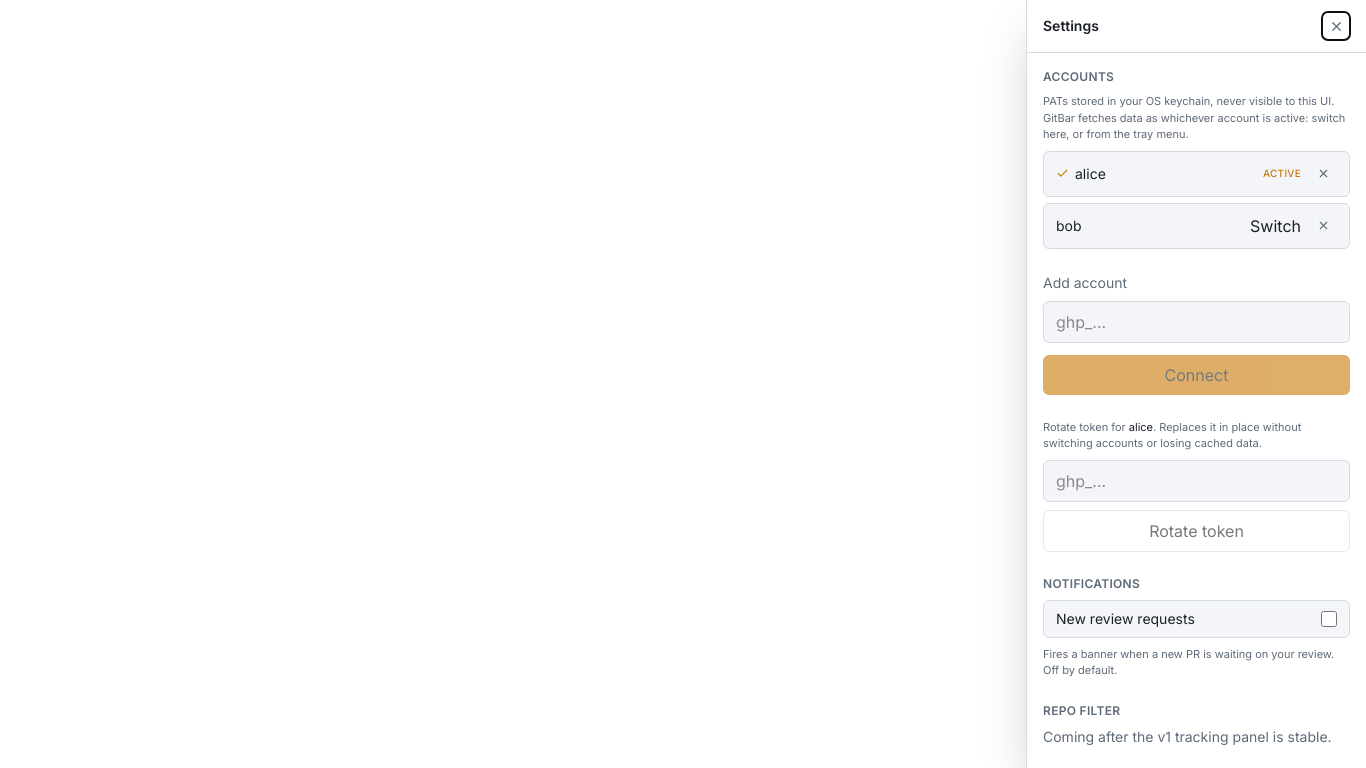
Test case: Settings › renders a failed switch beside the account list, not under the Add-account form, and clears it on retry
Step 1. Click the button "Switch" → x=1276, y=226, box [1250,214,1301,238]
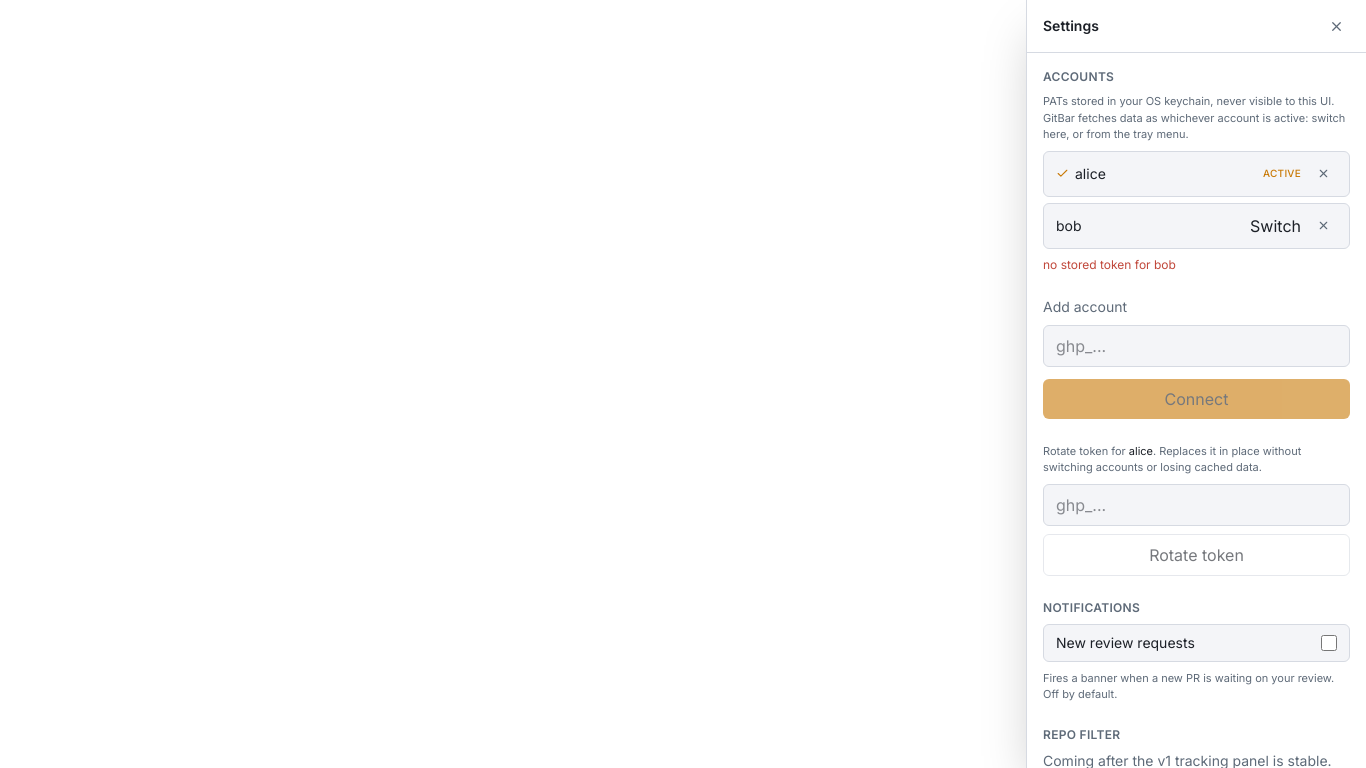
// A later success clears it rather than leaving stale red text behind.
Step 2. Click the button "Switch" → x=1276, y=226, box [1250,214,1301,238]
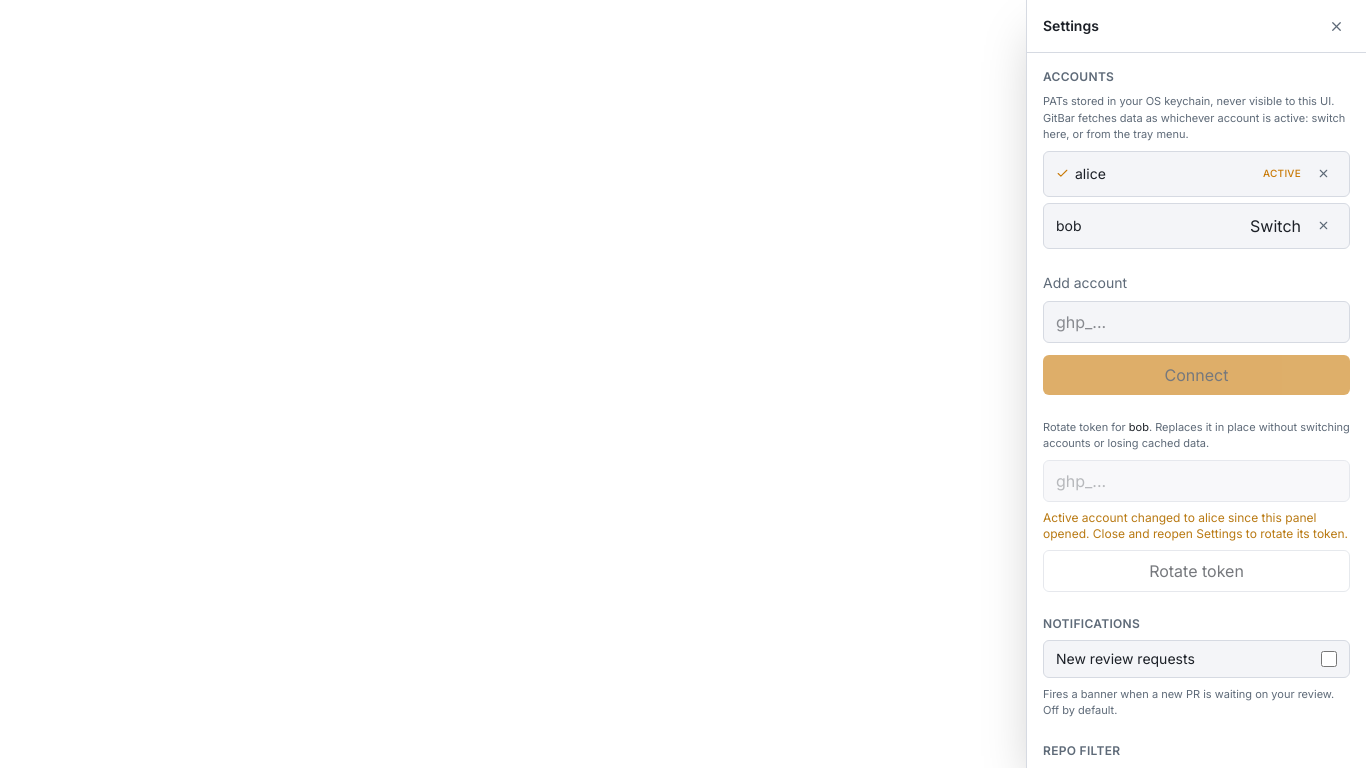
Now the text "no stored token for bob" is gone
